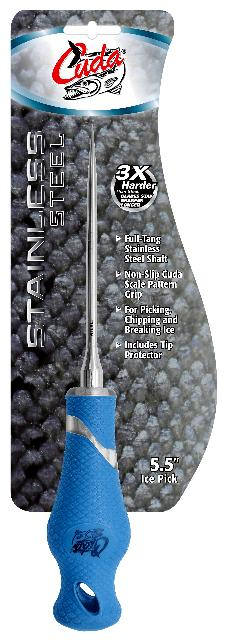ice pick: (49, 128, 129, 634)
